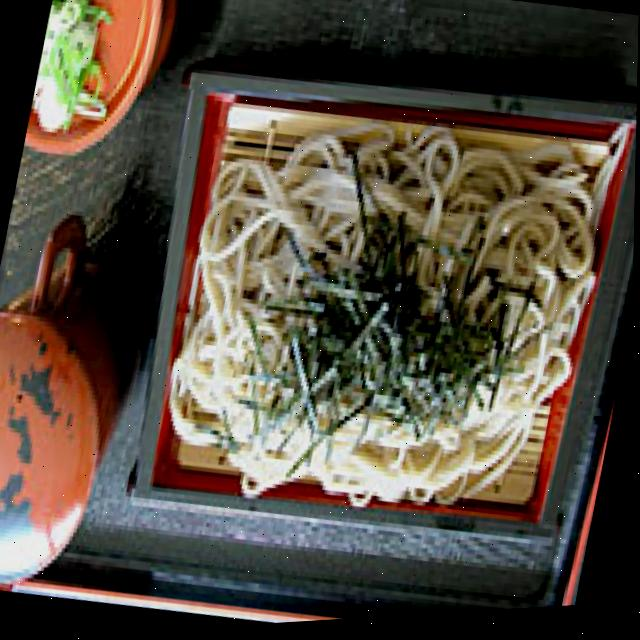面条主食: (79, 0, 640, 631)
